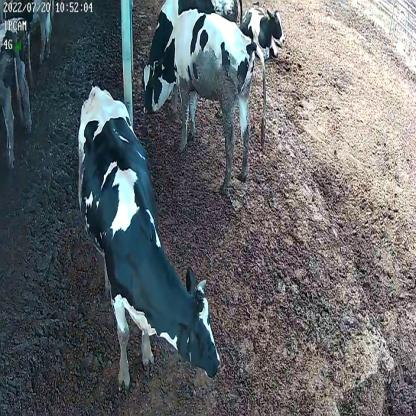cow: (77, 78, 223, 387), (147, 10, 267, 194), (140, 0, 246, 116), (241, 1, 285, 61)
